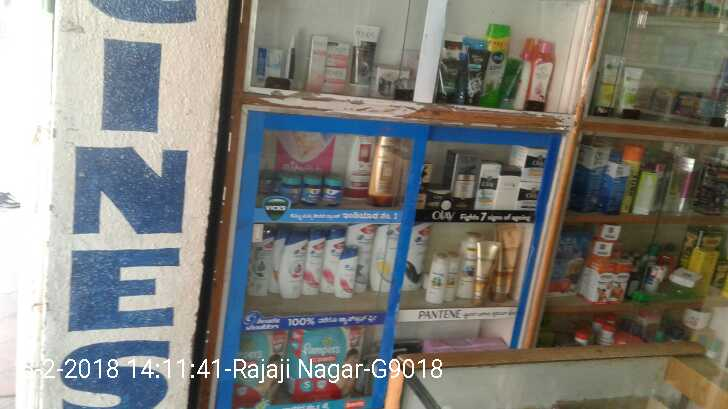beauty: (278, 231, 304, 299), (496, 225, 516, 300), (303, 232, 320, 300), (475, 162, 498, 210), (335, 249, 355, 302), (474, 242, 488, 306), (428, 256, 443, 306), (519, 150, 544, 179), (517, 182, 539, 209)
pharmacy: (289, 326, 367, 397), (274, 174, 300, 206), (301, 173, 322, 206), (326, 175, 342, 203)
